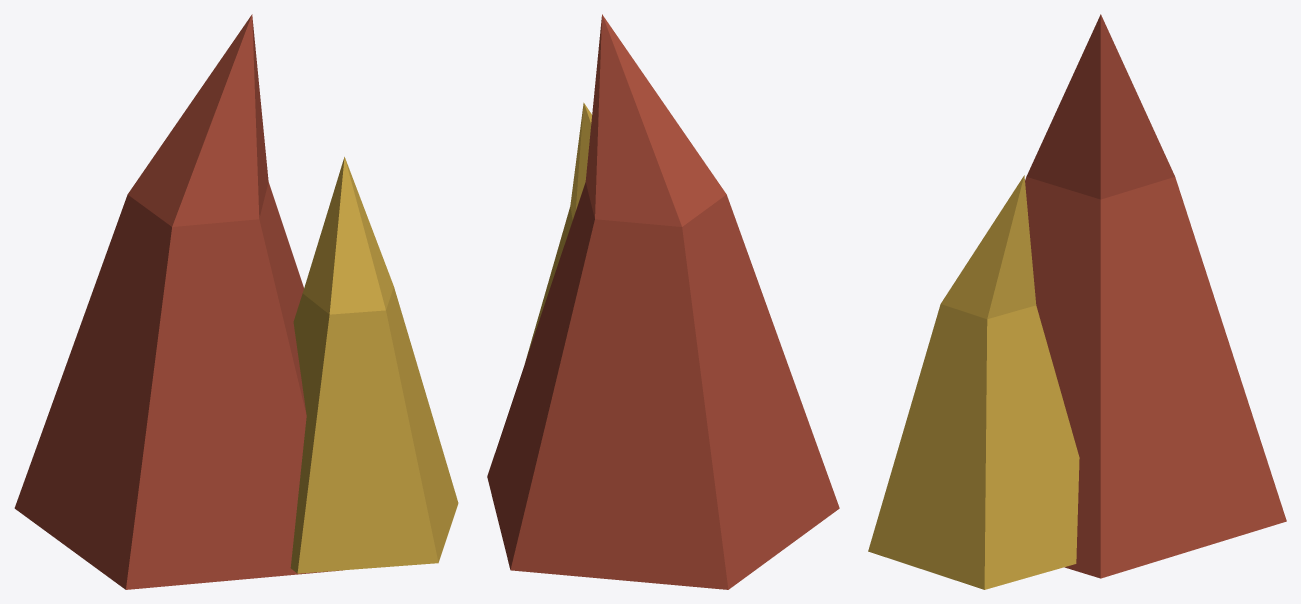
Rendered from campfire-flame-0.glb.
The picture shows the model from 3 angles, left to right: view 1: azimuth 30°, elevation 25°; view 2: azimuth 150°, elevation 25°; view 3: azimuth 270°, elevation 25°; orthographic projection. The views are drawn at different scales.
Parts seen in each view (by area): view 1: Flamme0, Flamme1; view 2: Flamme0, Flamme1; view 3: Flamme0, Flamme1.
Part boxes in pixels (x1=…): Flamme0: x1=14, y1=14, x2=342, y2=589; Flamme1: x1=290, y1=157, x2=458, y2=573; Flamme0: x1=487, y1=14, x2=839, y2=589; Flamme1: x1=525, y1=102, x2=591, y2=361; Flamme0: x1=1025, y1=14, x2=1286, y2=578; Flamme1: x1=868, y1=175, x2=1079, y2=589.
Bounding box in the file's own units: 0.2832 × 0.4 × 0.2997.
